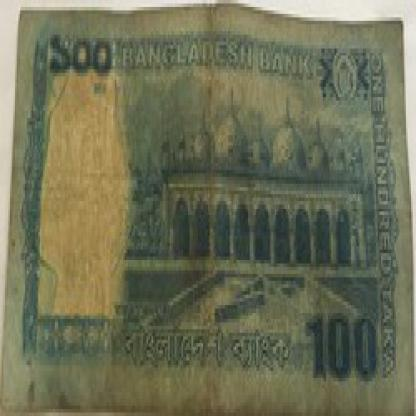one hundred taka: (306, 305, 379, 388), (46, 24, 116, 80)
